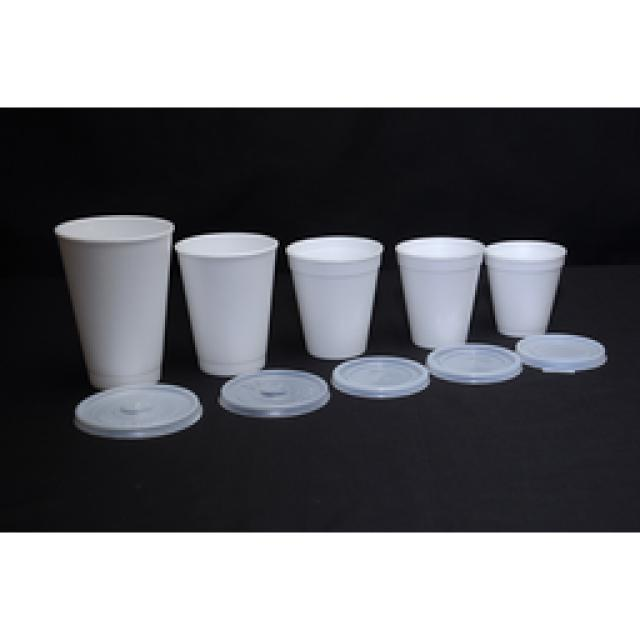styrofoam: (175, 232, 605, 418), (55, 215, 200, 438)
